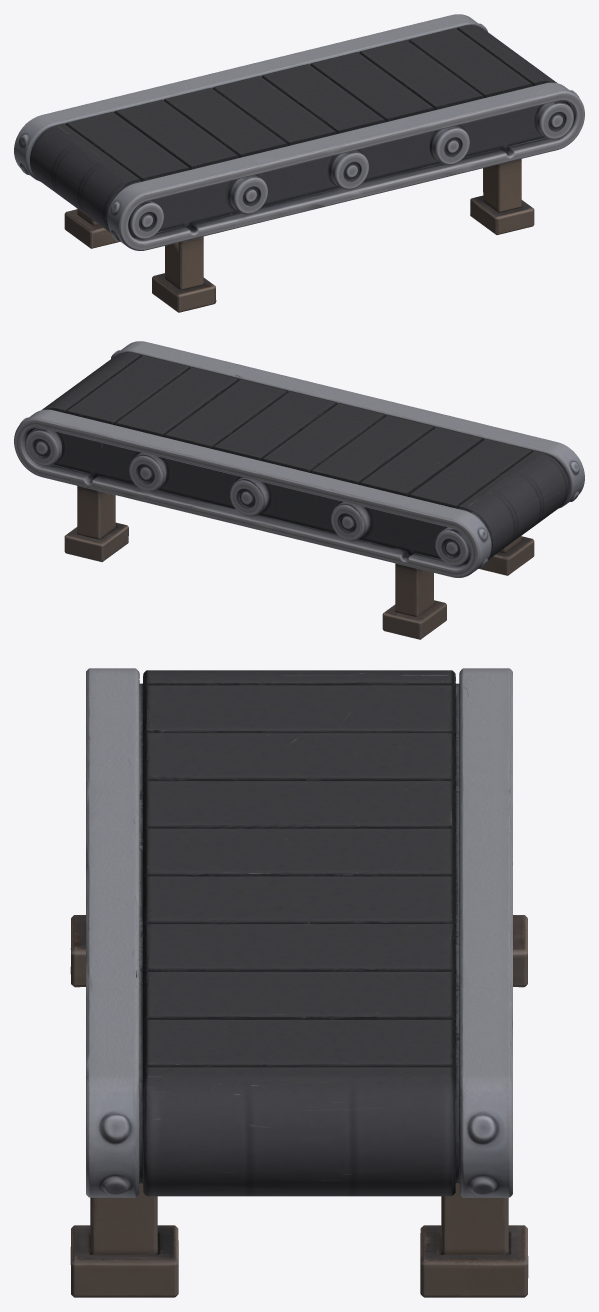
File: Meshy_AI_Conveyor_Belt_1009143945_texture.fbx
3 renders of one model, top to bottom at view 1: azimuth 30°, elevation 25°; view 2: azimuth 150°, elevation 25°; view 3: azimuth 270°, elevation 25°, orthographic. The views are drawn at different scales.
Visible parts, largest first — view 1: Mesh_0; view 2: Mesh_0; view 3: Mesh_0.
Boxes of the visible parts, bbox=[...] form: Mesh_0: bbox=[14, 14, 584, 312]; Mesh_0: bbox=[14, 341, 584, 639]; Mesh_0: bbox=[70, 668, 528, 1297].
Bounding box in the file's own units: 190 × 48.89 × 80.85.
1 material, 1 textured.
